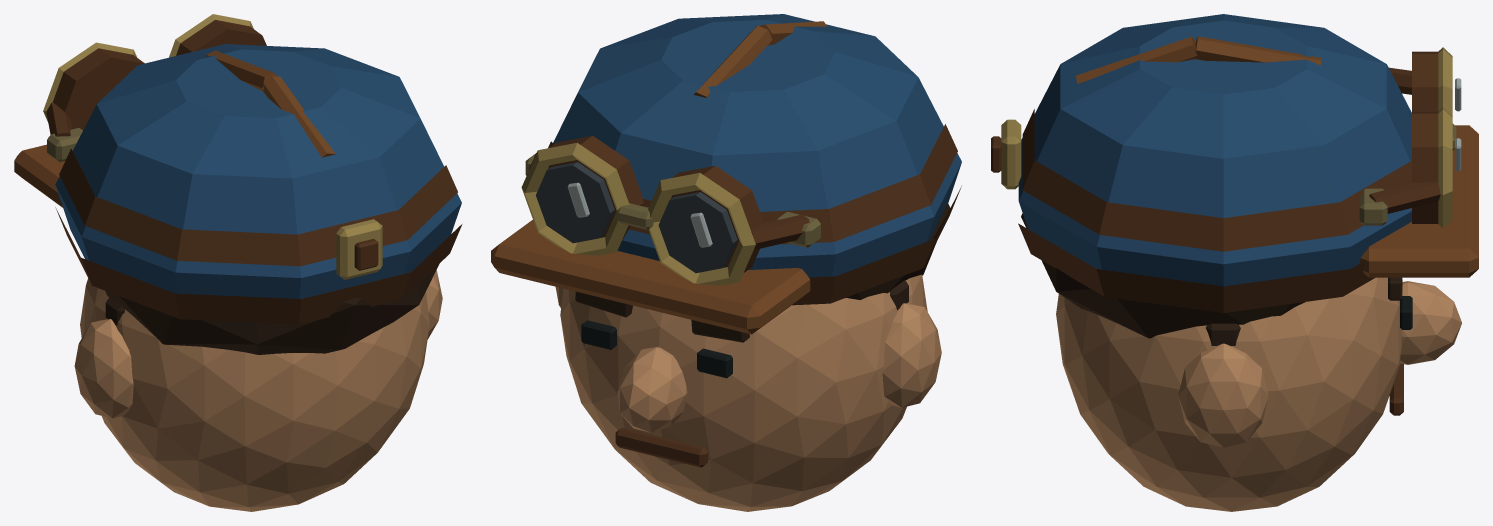
Rendered from Head.glb.
The picture shows the model from 3 angles, left to right: view 1: azimuth 30°, elevation 25°; view 2: azimuth 150°, elevation 25°; view 3: azimuth 270°, elevation 25°; orthographic projection. The views are drawn at different scales.
Parts seen in each view (by area): view 1: Sculpture; view 2: Sculpture; view 3: Sculpture.
Part boxes in pixels (bbox=[...]): Sculpture: bbox=[14, 14, 462, 511]; Sculpture: bbox=[491, 14, 961, 511]; Sculpture: bbox=[991, 14, 1478, 511].
Bounding box in the file's own units: 0.542 × 0.6359 × 0.6115.
